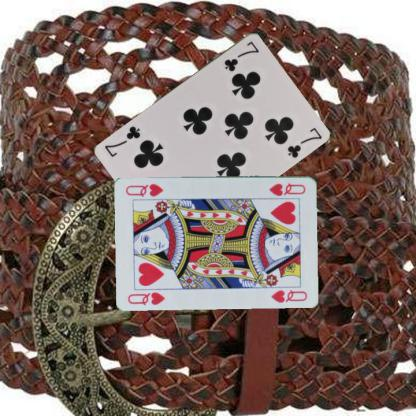7c: (221, 38, 261, 73)
Qh: (267, 180, 307, 197), (126, 290, 166, 306)
